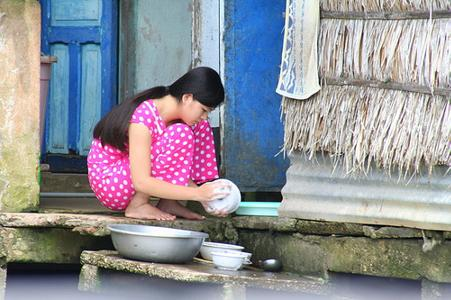person: (87, 64, 241, 222)
